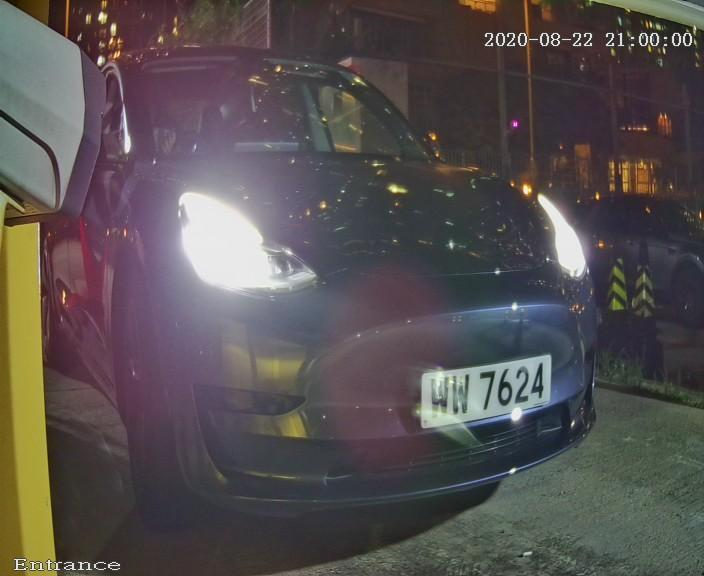Car: (16, 6, 654, 561)
License Plate: (390, 337, 582, 450)
